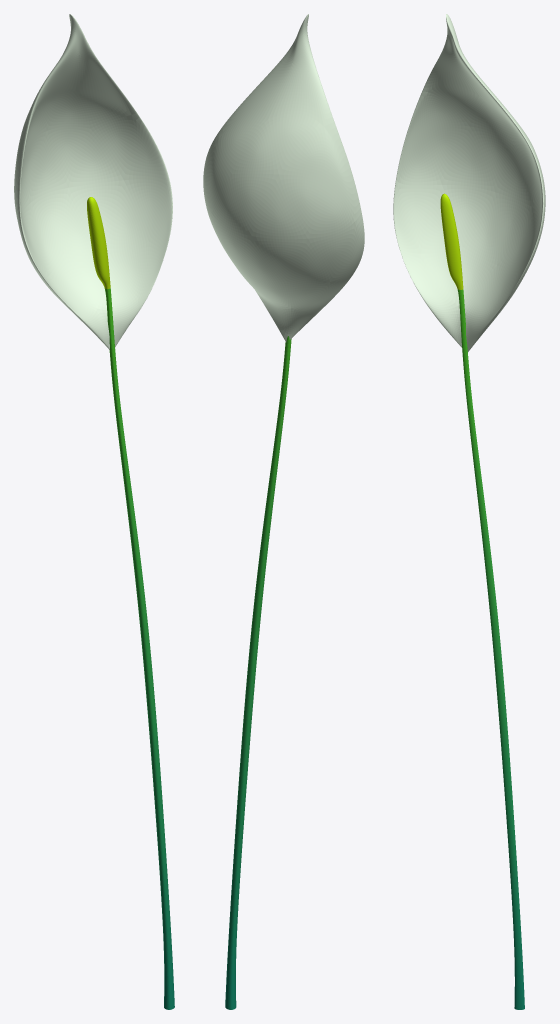
The model's file is PeaceLilly2.fbx.
3 renders of one model, left to right at view 1: azimuth 30°, elevation 25°; view 2: azimuth 150°, elevation 25°; view 3: azimuth 330°, elevation 25°, orthographic. The views are drawn at different scales.
Parts seen in each view (by area): view 1: Icosphere, Stem; view 2: Icosphere, Stem; view 3: Icosphere, Stem.
Boxes of the visible parts, x1=… form: Icosphere: x1=14, y1=14, x2=172, y2=349; Stem: x1=87, y1=197, x2=174, y2=1009; Icosphere: x1=203, y1=14, x2=364, y2=342; Stem: x1=225, y1=336, x2=291, y2=1009; Icosphere: x1=393, y1=14, x2=545, y2=351; Stem: x1=440, y1=193, x2=524, y2=1009.
Bounding box in the file's own units: 586 × 3711 × 330.
